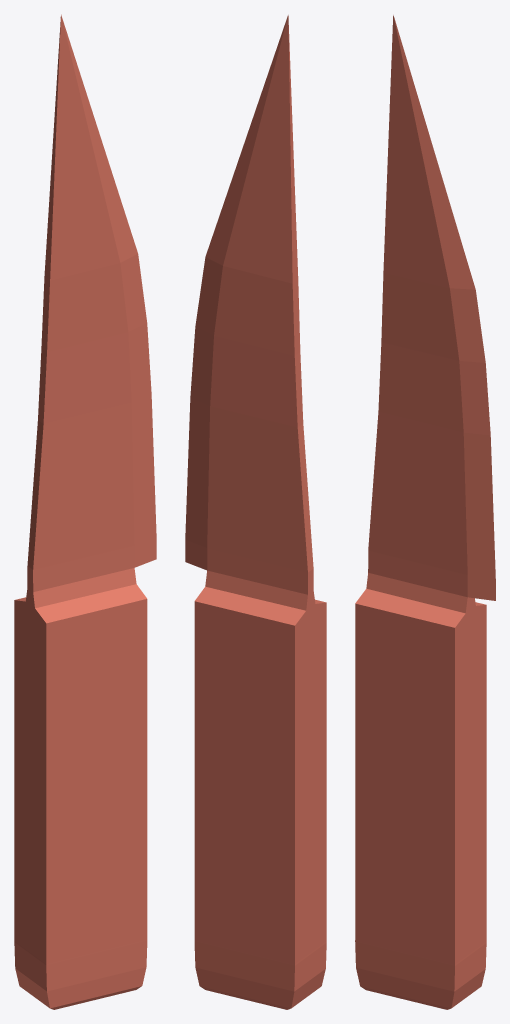
Rendered from knife-yatai3.fbx.
3 renders of one model, left to right at view 1: azimuth 30°, elevation 25°; view 2: azimuth 150°, elevation 25°; view 3: azimuth 330°, elevation 25°, orthographic.
Parts seen in each view (by area): view 1: KnifeLarge.001; view 2: KnifeLarge.001; view 3: KnifeLarge.001.
Part boxes in pixels (x1=…): KnifeLarge.001: x1=14, y1=14, x2=156, y2=1009; KnifeLarge.001: x1=185, y1=15, x2=326, y2=1009; KnifeLarge.001: x1=355, y1=15, x2=495, y2=1009.
Bounding box in the file's own units: 17.46 × 130 × 7.64.
